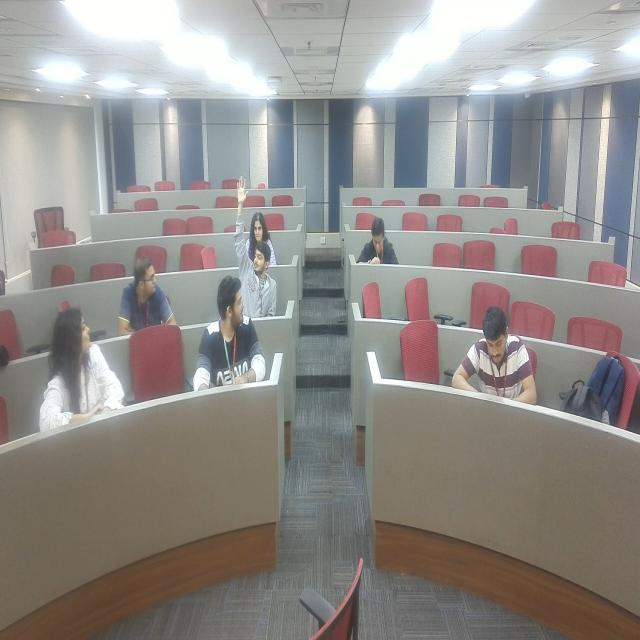non-cheating: (232, 170, 274, 322)
